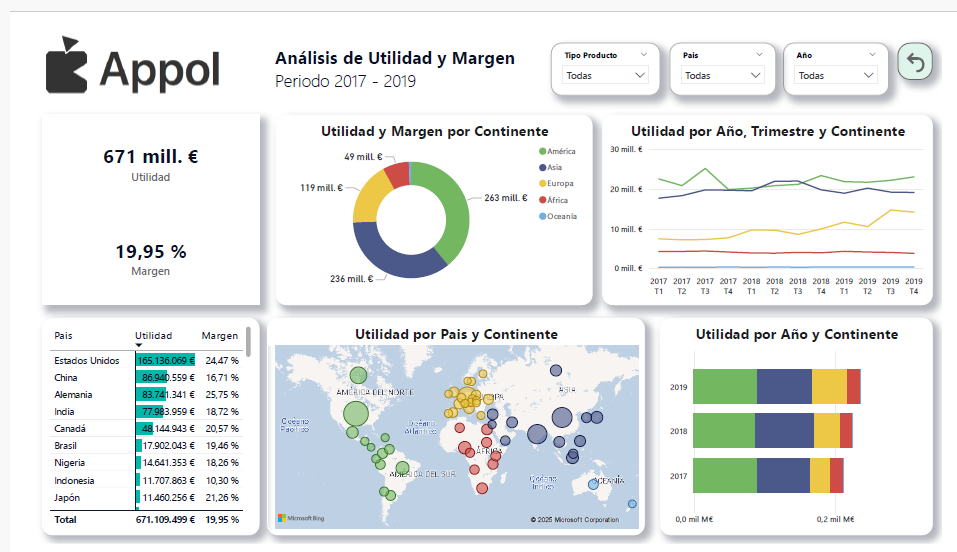

The page's visual inventory and layout, read from the dashboard file:
{"tool":"powerbi","page":{"name":"Regiones","canvas":[1280,720],"ordinal":0},"visuals":[{"type":"tableEx","fields":{"Values":["Tabla_Datos.Pais","Tabla_Datos.Utilidad","Tabla_Datos.Margen"]},"box":[20.6,404.1,304.2,304.2],"z":0},{"type":"cardVisual","fields":{"Data":["Tabla_Datos.Utilidad","Tabla_Datos.Margen"]},"box":[20.6,120.5,304.2,266],"z":1000},{"type":"donutChart","fields":{"Category":["Tabla_Datos.Continente"],"Y":["Tabla_Datos.Utilidad"]},"box":[348.2,120.5,442.3,266],"z":2000},{"type":"barChart","fields":{"Category":["Tabla_Datos.Año"],"Y":["Tabla_Datos.Utilidad"],"Series":["Tabla_Datos.Continente"]},"box":[886,404.1,380.6,304.2],"z":3000},{"type":"map","fields":{"Category":["Tabla_Datos.Pais"],"Size":["Tabla_Datos.Utilidad"],"Series":["Tabla_Datos.Continente"]},"box":[336.5,404.1,527.5,304.2],"z":4000},{"type":"lineChart","fields":{"Y":["Tabla_Datos.Utilidad"],"Category":["Tabla_Datos.Año","Tabla_Datos.Trimestre"],"Series":["Tabla_Datos.Continente"]},"box":[805.2,120.5,461.4,266],"z":5000},{"type":"image","box":[0,0,293.9,98.4],"z":6000},{"type":"slicer","fields":{"Values":["Tabla Productos.Tipo Producto"]},"box":[733.2,19.1,152.8,73.5],"z":7000},{"type":"slicer","fields":{"Values":["Tabla_Datos.Año"]},"box":[1058,19.1,148.4,73.5],"z":8000},{"type":"slicer","fields":{"Values":["Tabla_Datos.Pais"]},"box":[899.3,19.1,148.4,73.5],"z":9000},{"type":"textbox","box":[342,18,356,80],"z":10000},{"type":"actionButton","box":[1218,19,49,52],"z":11000}]}

Visuals, with their boxes in screenshot pixels (x1, y1, x2, y2), scaled from the page's 1280x720 canvas onto the 957x552 screenshot:
tableEx - Tabla_Datos.Pais x Tabla_Datos.Utilidad: Rect(15, 310, 243, 543)
cardVisual - Tabla_Datos.Utilidad x Tabla_Datos.Margen: Rect(15, 92, 243, 296)
donutChart - Tabla_Datos.Continente x Tabla_Datos.Utilidad: Rect(260, 92, 591, 296)
barChart - Tabla_Datos.Año x Tabla_Datos.Utilidad: Rect(662, 310, 947, 543)
map - Tabla_Datos.Pais x Tabla_Datos.Utilidad: Rect(252, 310, 646, 543)
lineChart - Tabla_Datos.Utilidad x Tabla_Datos.Año: Rect(602, 92, 947, 296)
image: Rect(0, 0, 220, 75)
slicer - Tabla Productos.Tipo Producto: Rect(548, 15, 662, 71)
slicer - Tabla_Datos.Año: Rect(791, 15, 902, 71)
slicer - Tabla_Datos.Pais: Rect(672, 15, 783, 71)
textbox: Rect(256, 14, 522, 75)
actionButton: Rect(911, 15, 947, 54)
